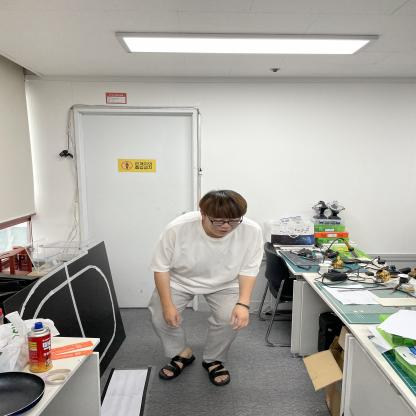fall: (141, 187, 266, 384)
